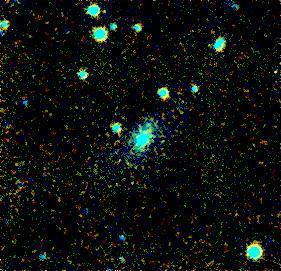star: (134, 110, 164, 140)
